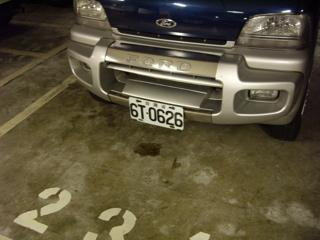plate: (127, 94, 186, 133)
